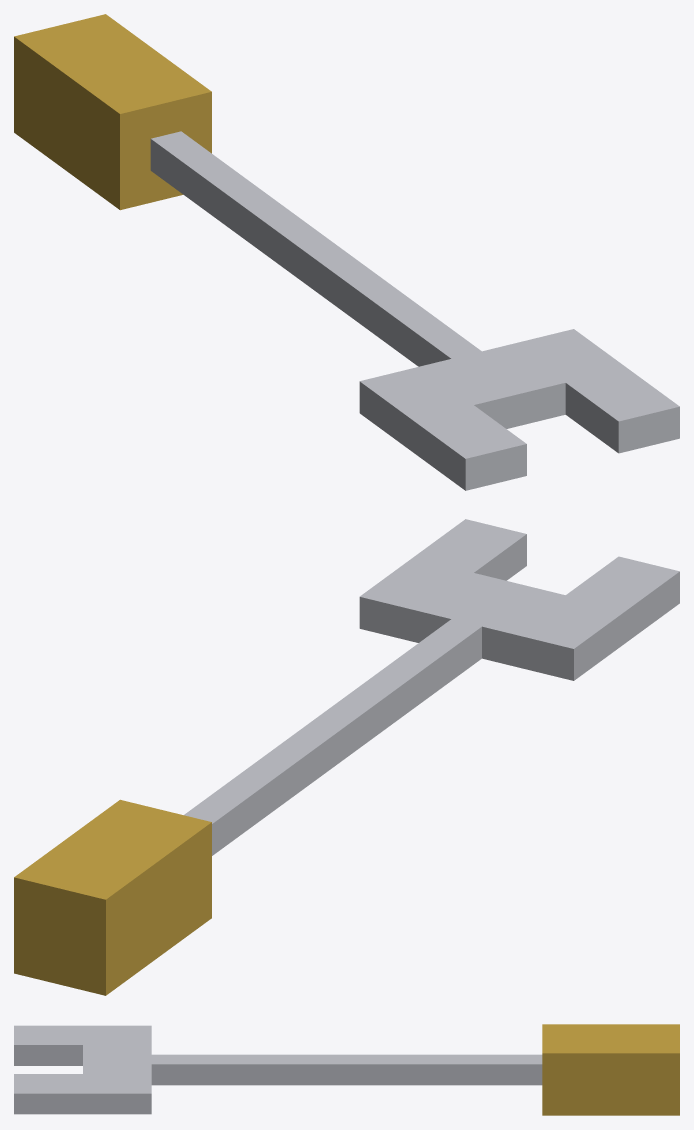
File: vox_wrench_star.glb
3 views of the same model, one above another, from view 1: azimuth 30°, elevation 25°; view 2: azimuth 150°, elevation 25°; view 3: azimuth 270°, elevation 25° (orthographic). The views are drawn at different scales.
Parts seen in each view (by area): view 1: vox_wrench_star; view 2: vox_wrench_star; view 3: vox_wrench_star.
Part boxes in pixels (left/top/right/bottom): vox_wrench_star: left=14, top=14, right=679, bottom=490; vox_wrench_star: left=14, top=519, right=679, bottom=995; vox_wrench_star: left=14, top=1024, right=679, bottom=1115.
Bounding box in the file's own units: 0.14 × 0.06 × 0.58.
